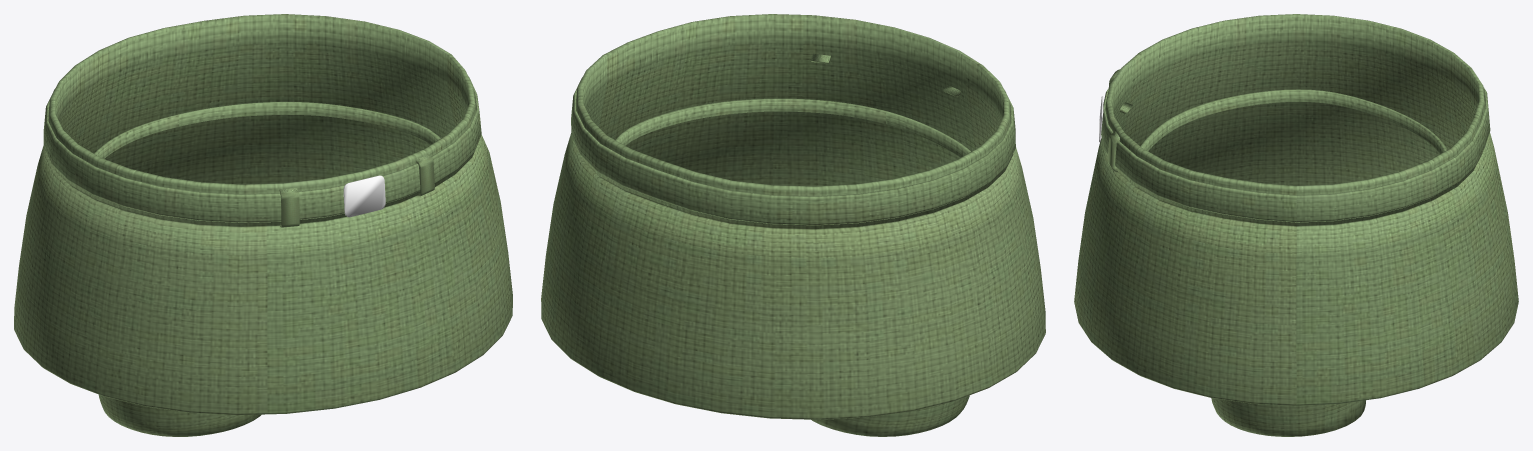
The model's file is MINJI_HB.gltf.
The picture shows the model from 3 angles, left to right: view 1: azimuth 30°, elevation 25°; view 2: azimuth 150°, elevation 25°; view 3: azimuth 270°, elevation 25°; orthographic projection. The views are drawn at different scales.
Visible parts, largest first — view 1: MINJI_HB-Mat.2, MINJI_HB-Mat.3; view 2: MINJI_HB-Mat.2; view 3: MINJI_HB-Mat.2.
Boxes of the visible parts, bbox=[...] form: MINJI_HB-Mat.2: bbox=[14, 14, 512, 436]; MINJI_HB-Mat.3: bbox=[343, 175, 385, 217]; MINJI_HB-Mat.2: bbox=[541, 14, 1045, 436]; MINJI_HB-Mat.2: bbox=[1074, 14, 1518, 436].
Bounding box in the file's own units: 244 × 148 × 224.
Materials: 2 (1 with a texture image).
